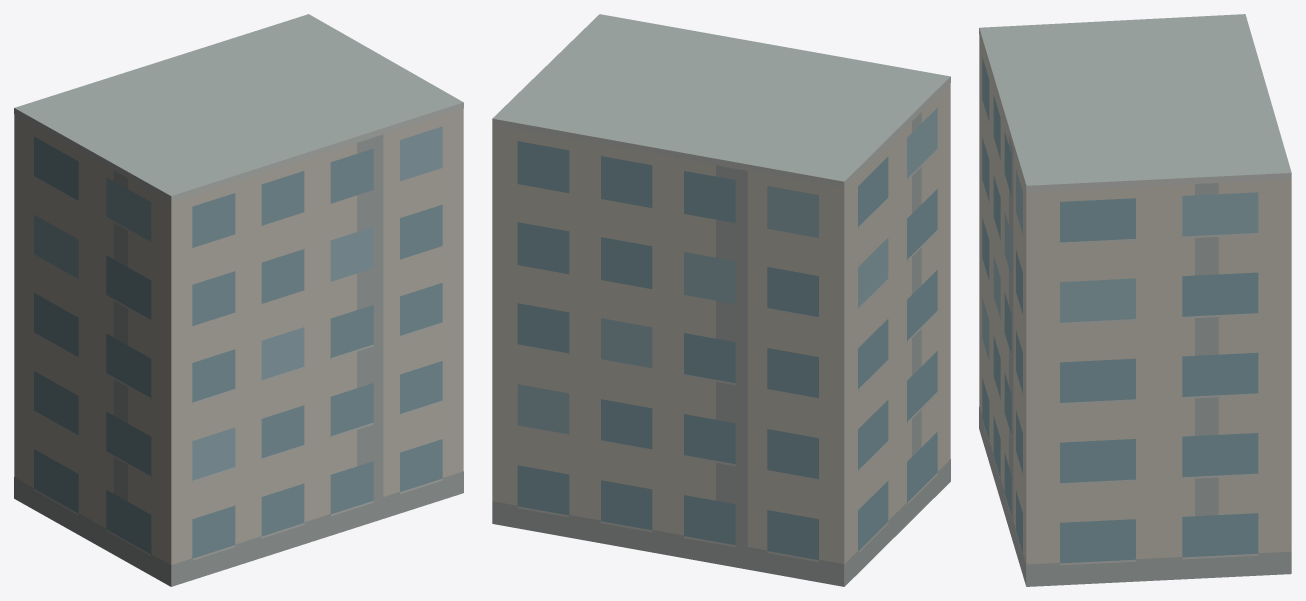
File: survey-upis-32884021.glb
3 renders of one model, left to right at view 1: azimuth 30°, elevation 25°; view 2: azimuth 150°, elevation 25°; view 3: azimuth 270°, elevation 25°, orthographic. The views are drawn at different scales.
Parts seen in each view (by area): view 1: survey-upis-32884021.tmp; view 2: survey-upis-32884021.tmp; view 3: survey-upis-32884021.tmp.
Part boxes in pixels (x1,y1,x2,y2): survey-upis-32884021.tmp: (14,14,463,586); survey-upis-32884021.tmp: (492,14,950,586); survey-upis-32884021.tmp: (979,14,1291,586).
Bounding box in the file's own units: 13.92 × 15.15 × 10.71.
